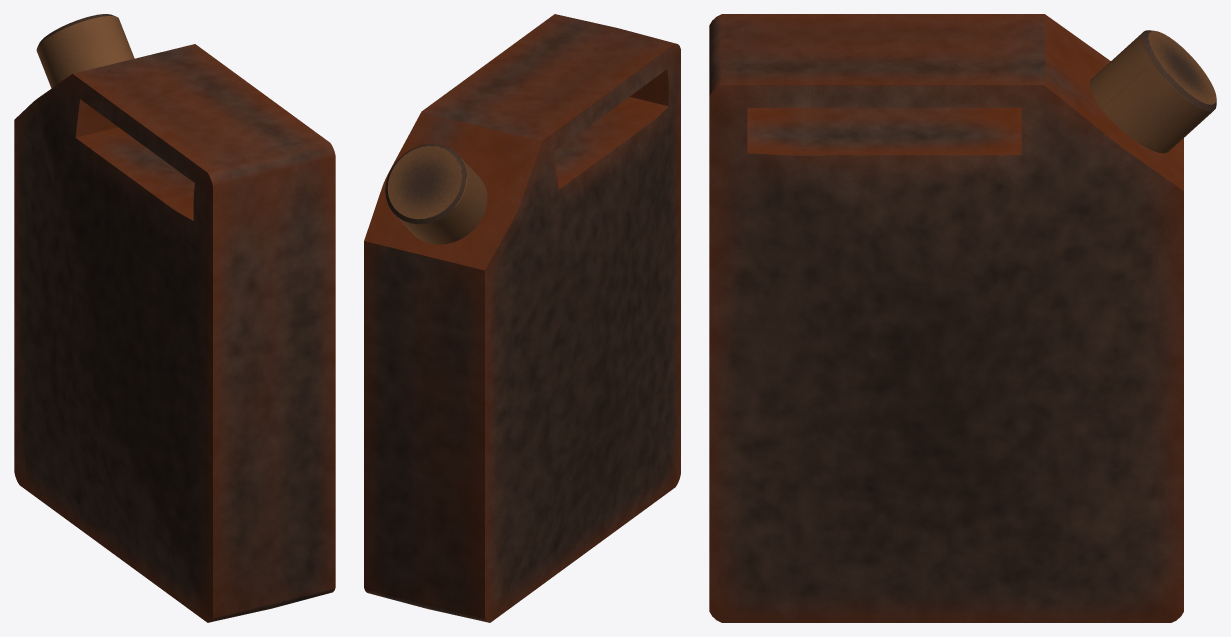
Rendered from canister.fbx.
3 renders of one model, left to right at view 1: azimuth 30°, elevation 25°; view 2: azimuth 150°, elevation 25°; view 3: azimuth 270°, elevation 25°, orthographic. The views are drawn at different scales.
Parts seen in each view (by area): view 1: canister; view 2: canister; view 3: canister.
Boxes of the visible parts, left/top/right/bottom form: canister: left=14, top=14, right=335, bottom=622; canister: left=364, top=14, right=680, bottom=622; canister: left=709, top=14, right=1216, bottom=622.
Bounding box in the file's own units: 3.24 × 8.71 × 7.27.
1 material, 1 textured.
